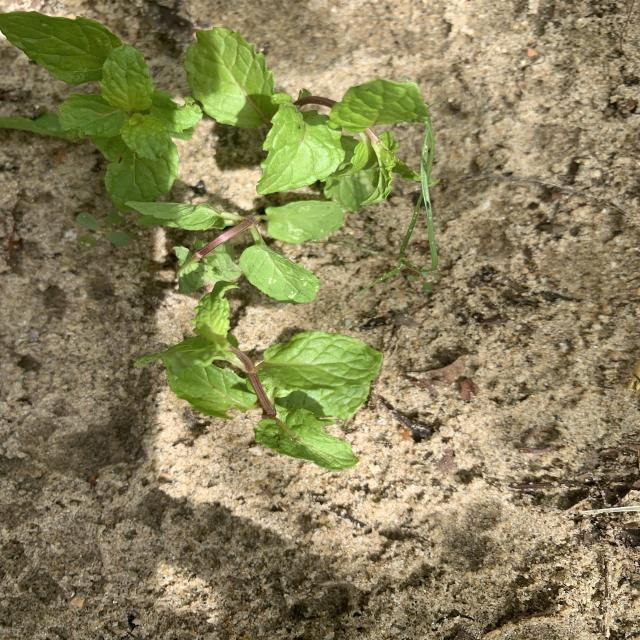crop: (135, 281, 383, 470), (187, 27, 427, 211), (0, 12, 202, 210), (129, 200, 344, 303)
weed: (380, 111, 439, 291), (77, 211, 138, 247)
